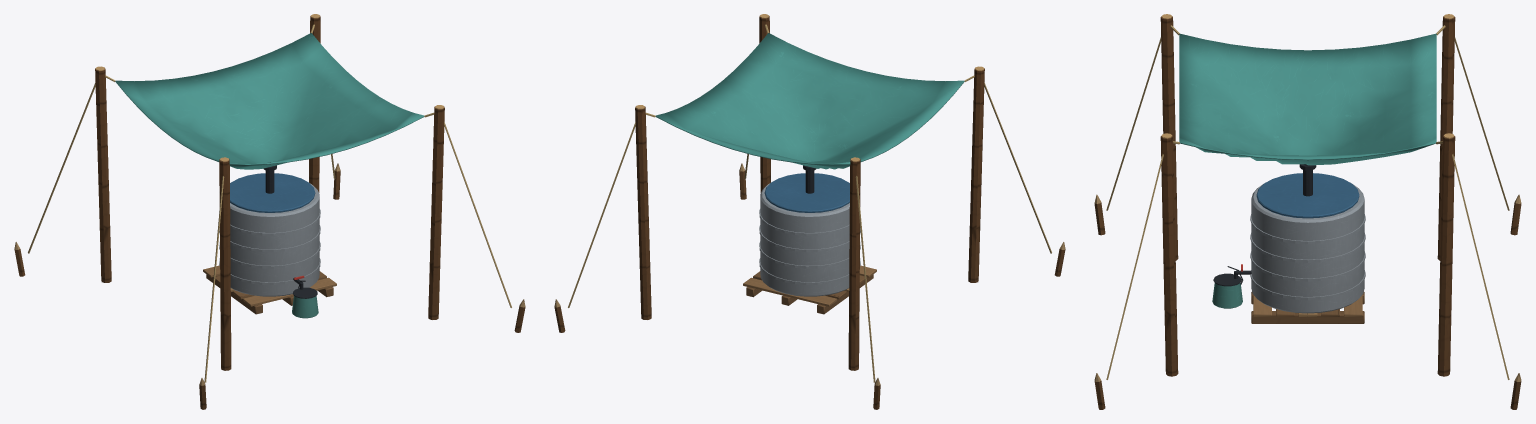
File: rain_catcher.glb
3 renders of one model, left to right at view 1: azimuth 30°, elevation 25°; view 2: azimuth 150°, elevation 25°; view 3: azimuth 270°, elevation 25°, orthographic. The views are drawn at different scales.
Parts seen in each view (by area): view 1: rain_catcher; view 2: rain_catcher; view 3: rain_catcher.
Boxes of the visible parts, <box> form: rain_catcher: <box>14,14,525,409</box>; rain_catcher: <box>554,14,1065,409</box>; rain_catcher: <box>1094,14,1521,409</box>.
Bounding box in the file's own units: 4.15 × 2.63 × 4.15.
16 materials, 16 textured.
